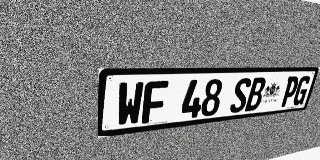4: (180, 79, 206, 119)
8: (200, 79, 224, 117)
B: (244, 77, 267, 112)
F: (141, 81, 169, 124)
G: (291, 76, 312, 106)
P: (279, 76, 301, 107)
S: (229, 78, 252, 113)
W: (116, 81, 144, 127)
